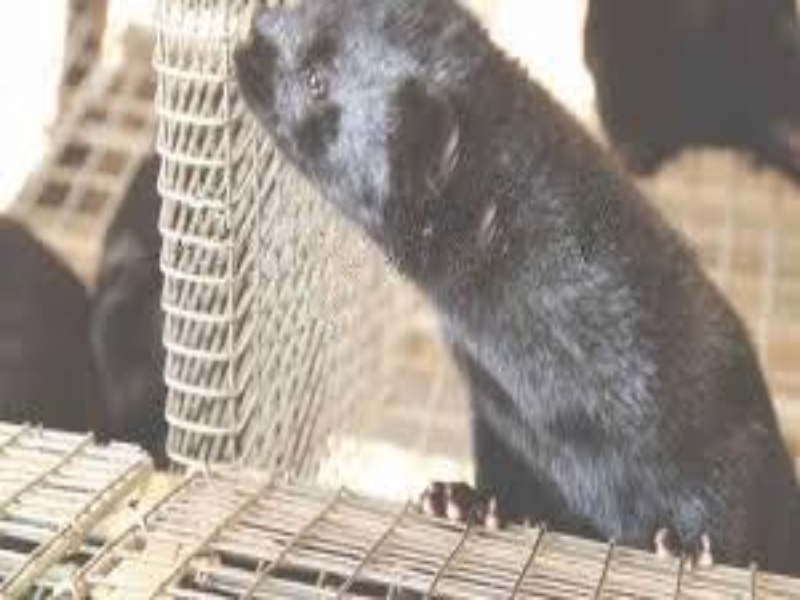minkish: (228, 1, 800, 574)
